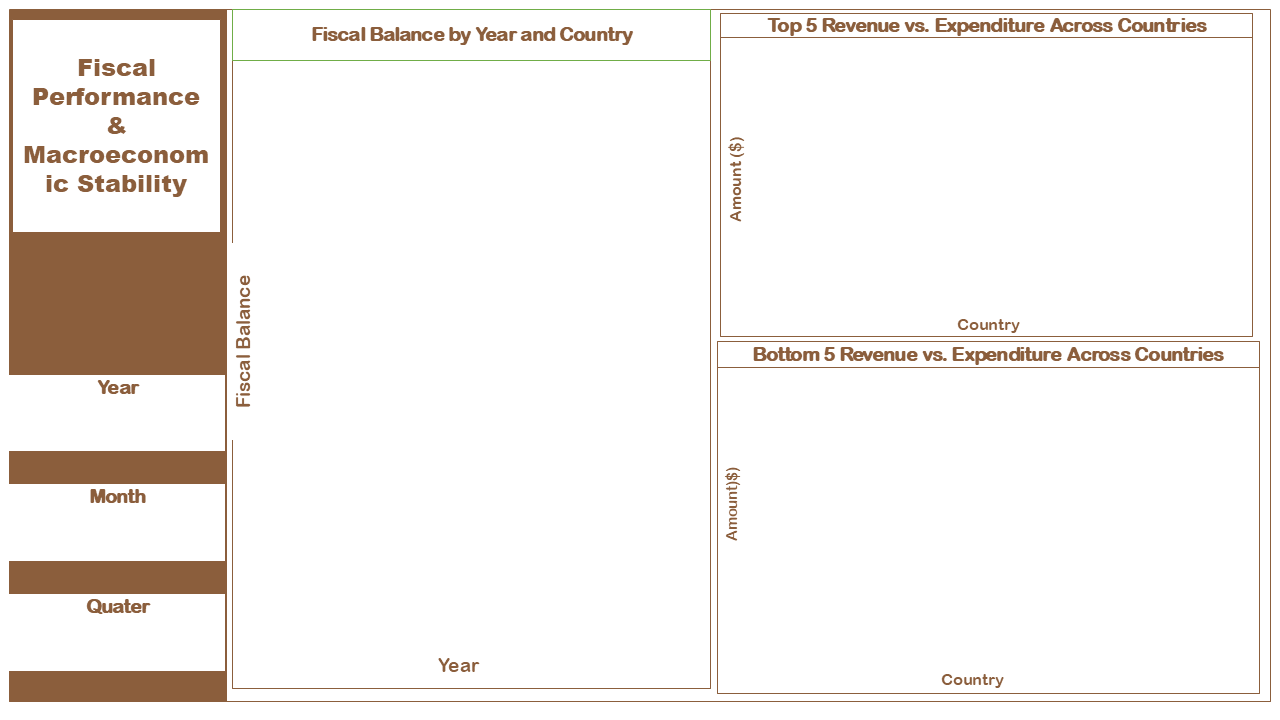

Layout of this report page (visuals, bound fields, positions):
{"tool":"powerbi","page":{"name":"Page 2","canvas":[1280,720],"ordinal":1},"visuals":[{"type":"areaChart","fields":{"Category":["Calendar.Year"],"Y":["kpi_1.Fiscal Balance"],"Series":["Dim_Country.Country"]},"box":[252.1,61.8,453.8,588.8],"z":0},{"type":"clusteredColumnChart","title":"TOp 5 Revenue vs. Expenditure Across Countries","fields":{"Category":["Dim_Country.Country"],"Series":["Dim_Indicator.Indicator_Category"],"Y":["Sum(fact_economic_data_cleaned.Amount_USD)"]},"box":[749.8,35.8,497.7,279.8],"z":1000},{"type":"clusteredColumnChart","title":"Bottom 5 Revenue vs. Expenditure Across Countries","fields":{"Category":["Dim_Country.Country"],"Series":["Dim_Indicator.Indicator_Category"],"Y":["Sum(fact_economic_data_cleaned.Amount_USD)"]},"box":[749.8,370.9,497.7,296],"z":2000},{"type":"slicer","fields":{"Values":["Calendar.Year"]},"box":[6.5,390.4,218,71.6],"z":3000},{"type":"slicer","fields":{"Values":["Calendar.Month"]},"box":[17.9,497.7,206.6,53.7],"z":4000},{"type":"slicer","fields":{"Values":["Calendar.Quarter"]},"box":[11.4,613.2,206.6,53.7],"z":5000}]}

Visuals, with their boxes in screenshot pixels (x1, y1, x2, y2), scaled from the page's 1280x720 canvas onto the 1280x720 screenshot:
areaChart - Calendar.Year x kpi_1.Fiscal Balance: x1=252 y1=62 x2=706 y2=651
"TOp 5 Revenue vs. Expenditure Across Countries" clusteredColumnChart: x1=750 y1=36 x2=1248 y2=316
"Bottom 5 Revenue vs. Expenditure Across Countries" clusteredColumnChart: x1=750 y1=371 x2=1248 y2=667
slicer - Calendar.Year: x1=6 y1=390 x2=224 y2=462
slicer - Calendar.Month: x1=18 y1=498 x2=224 y2=551
slicer - Calendar.Quarter: x1=11 y1=613 x2=218 y2=667
